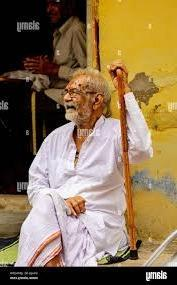Human: (17, 63, 157, 285)
